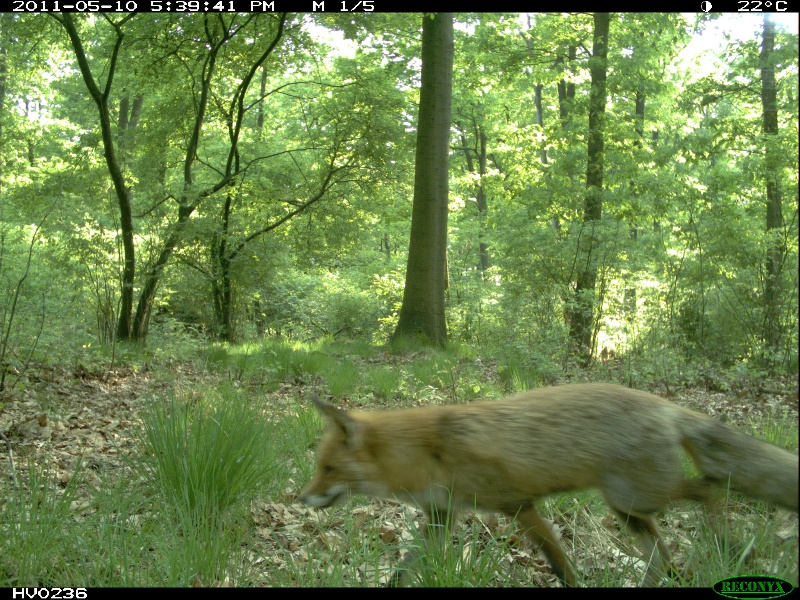fox: (290, 380, 800, 580)
